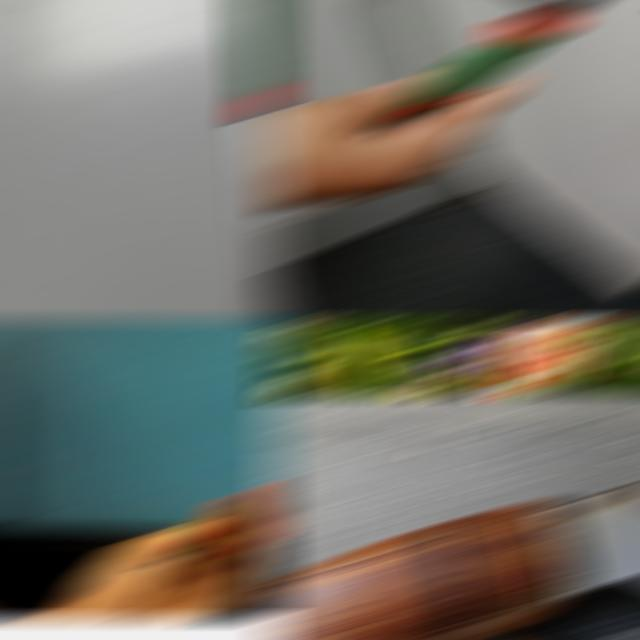Knife: (382, 3, 613, 121), (235, 3, 286, 317), (192, 486, 286, 548)
